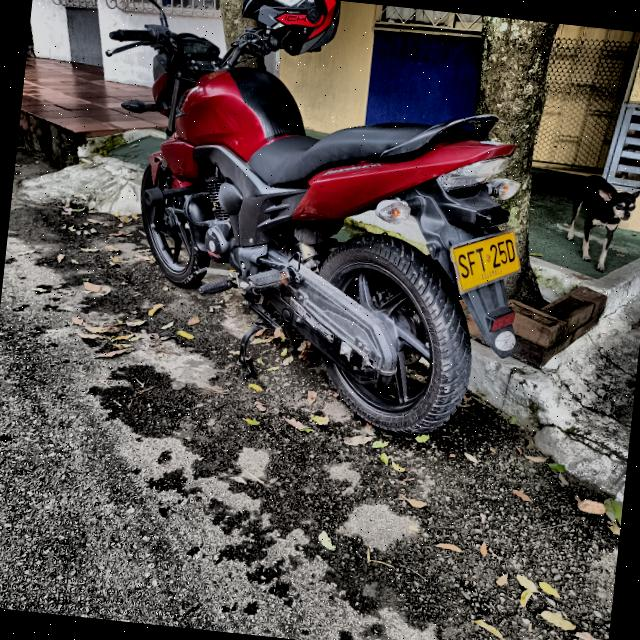plate: (451, 229, 520, 293)
